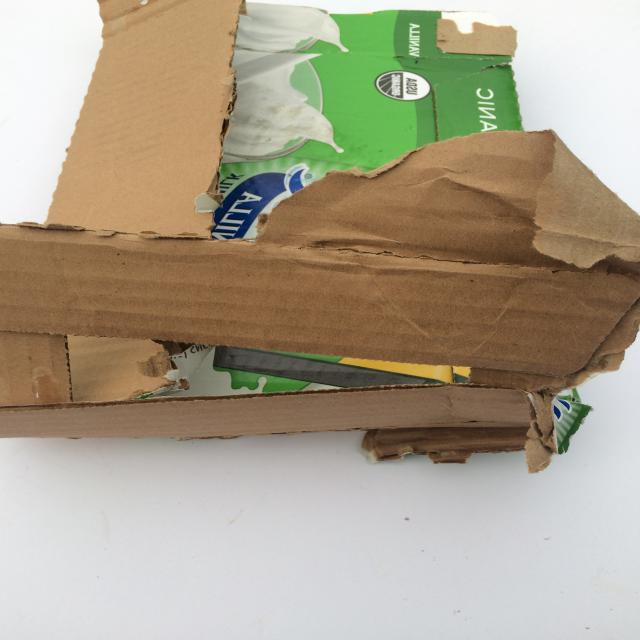paper: (0, 0, 634, 518)
